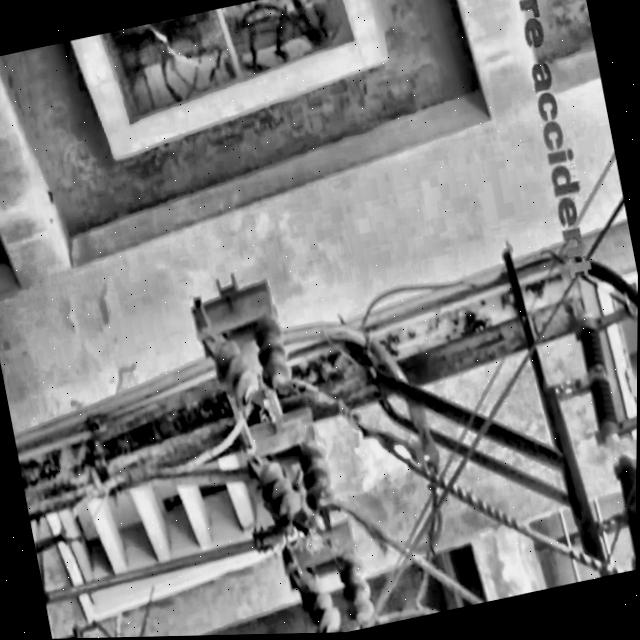Fire: (335, 410, 438, 519)
